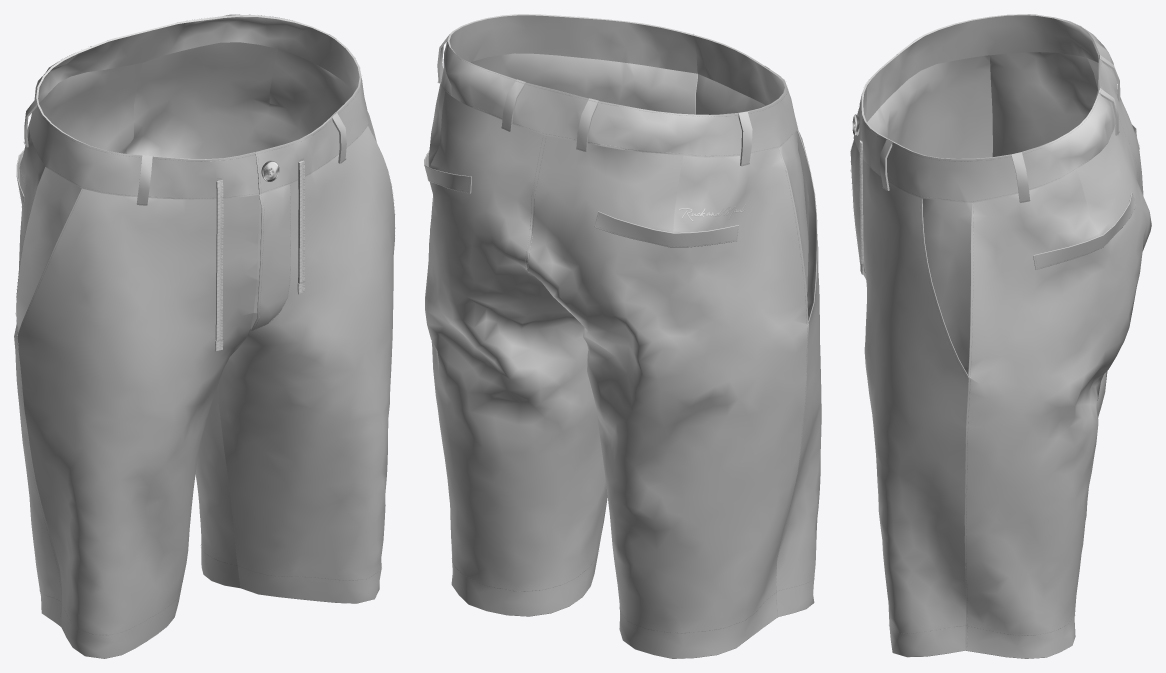
File: 22007white.glb
3 renders of one model, left to right at view 1: azimuth 30°, elevation 25°; view 2: azimuth 150°, elevation 25°; view 3: azimuth 270°, elevation 25°, orthographic. The views are drawn at different scales.
Visible parts, largest first — view 1: 22007 white; view 2: 22007 white; view 3: 22007 white.
Boxes of the visible parts, x1,y1,x2,y2 form: 22007 white: (14,14,395,658); 22007 white: (424,14,821,658); 22007 white: (850,14,1151,658).
Size of the model in its own units: 0.392 by 0.5489 by 0.2838.
7 materials, 6 textured.
